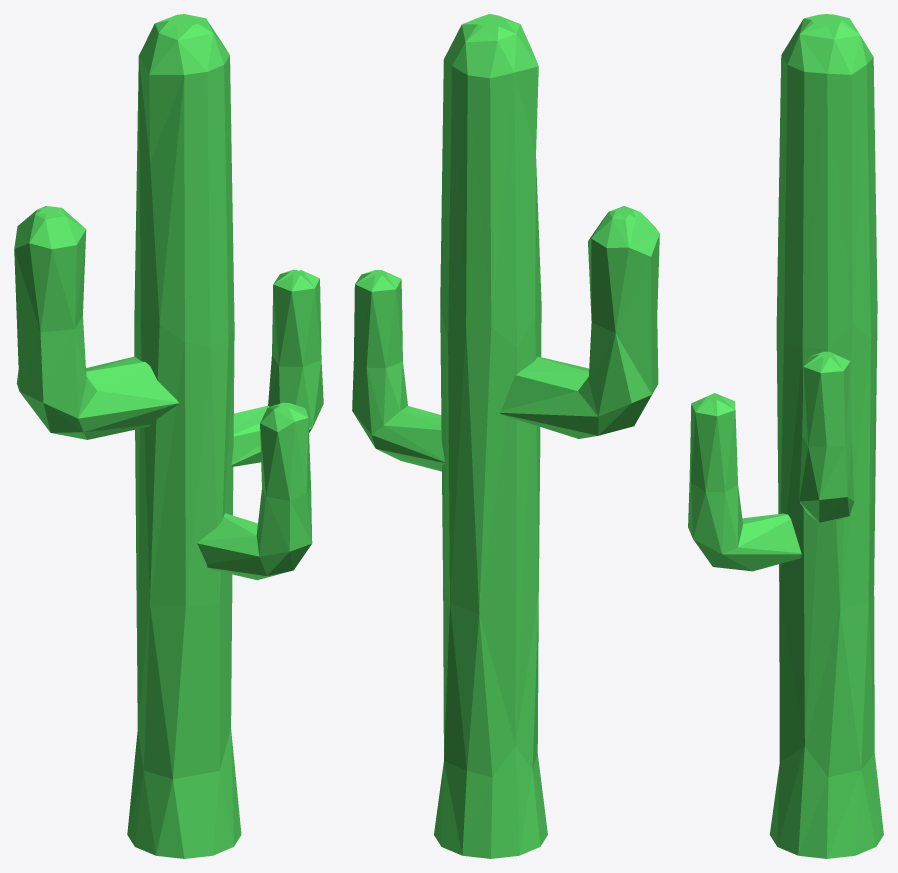
File: cactus2.fbx
3 renders of one model, left to right at view 1: azimuth 30°, elevation 25°; view 2: azimuth 150°, elevation 25°; view 3: azimuth 270°, elevation 25°, orthographic.
Visible parts, largest first — view 1: cactus2; view 2: cactus2; view 3: cactus2.
Part boxes in pixels (x1,y1,x2,y2): cactus2: (14,14,323,858); cactus2: (352,14,659,858); cactus2: (688,14,883,858).
Bounding box in the file's own units: 1.13 × 2.93 × 0.6384.
